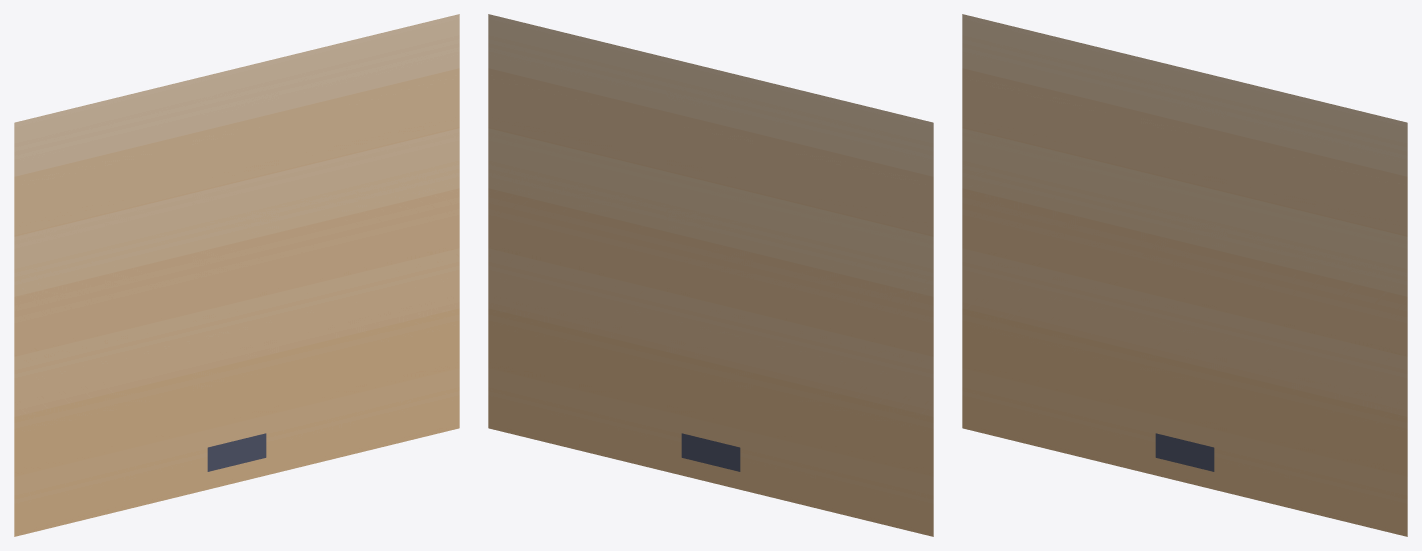
File: door-wide-closed.glb
3 renders of one model, left to right at view 1: azimuth 30°, elevation 25°; view 2: azimuth 150°, elevation 25°; view 3: azimuth 330°, elevation 25°, orthographic.
Visible parts, largest first — view 1: door-wide-closed; view 2: door-wide-closed; view 3: door-wide-closed.
Part boxes in pixels (x1,y1,x2,y2): door-wide-closed: (14, 14, 459, 536); door-wide-closed: (488, 14, 933, 536); door-wide-closed: (962, 14, 1407, 536).
Bounding box in the file's own units: 1.8 × 1.6 × 0.
1 material, 1 textured.
